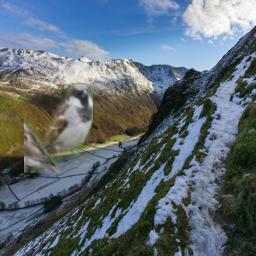Sparrow: (24, 83, 93, 173)
